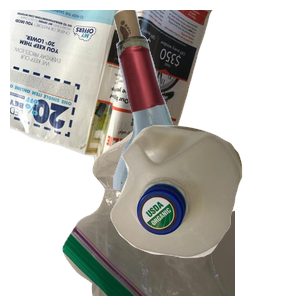glass: (89, 10, 300, 190)
paper: (10, 10, 215, 186)
plastic: (108, 123, 300, 300)
trash: (60, 120, 300, 300)
